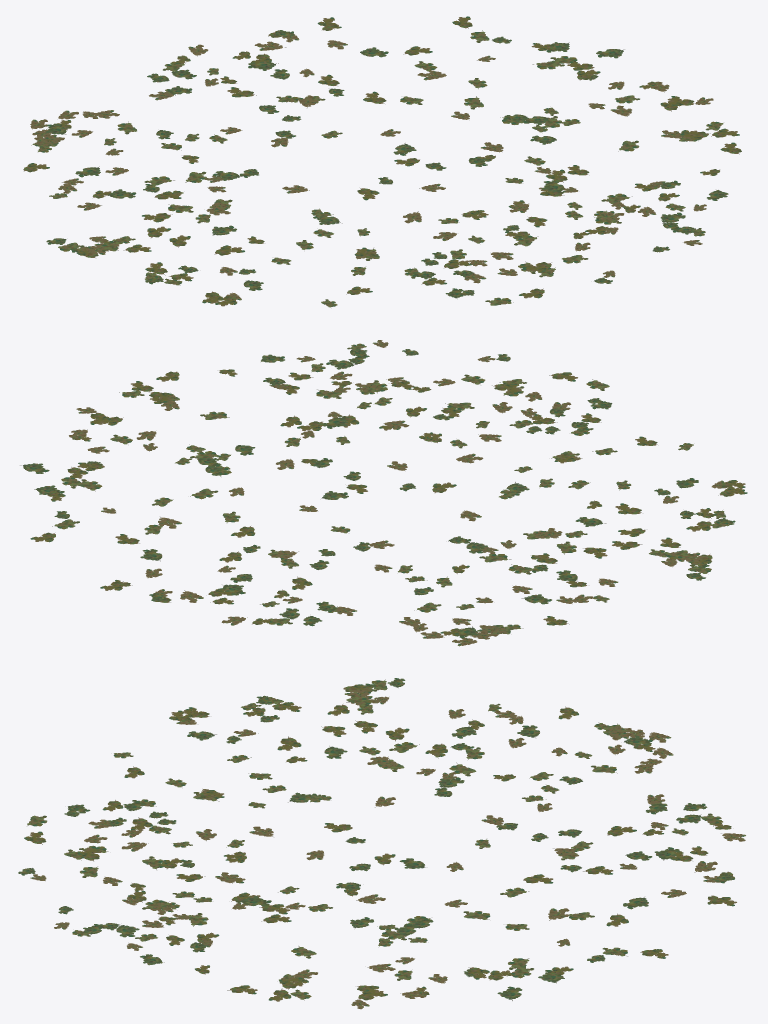
The model's file is aulne_adulte_d.fbx.
3 views of the same model, one above another, from view 1: azimuth 30°, elevation 25°; view 2: azimuth 150°, elevation 25°; view 3: azimuth 270°, elevation 25° (orthographic). The views are drawn at different scales.
Parts seen in each view (by area): view 1: aulne_adulte_d_feuilles_sol; view 2: aulne_adulte_d_feuilles_sol; view 3: aulne_adulte_d_feuilles_sol.
Part boxes in pixels (x1,y1,x2,y2): aulne_adulte_d_feuilles_sol: (23,16,741,307); aulne_adulte_d_feuilles_sol: (20,340,747,646); aulne_adulte_d_feuilles_sol: (18,678,745,1009).
Size of what is drawn, in the model's own units: 9.8 by 0.00595 by 9.18.
